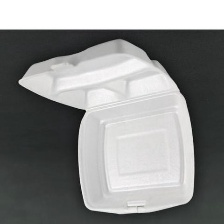foam_box: (13, 33, 202, 220)
